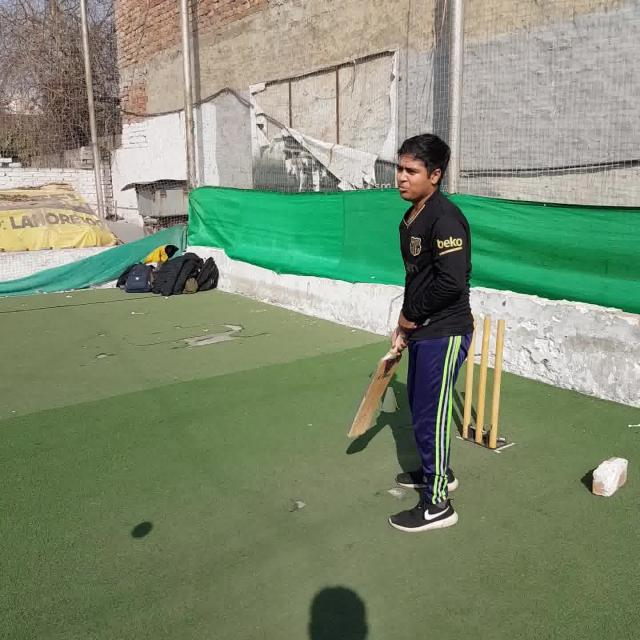bat: (349, 328, 410, 439)
